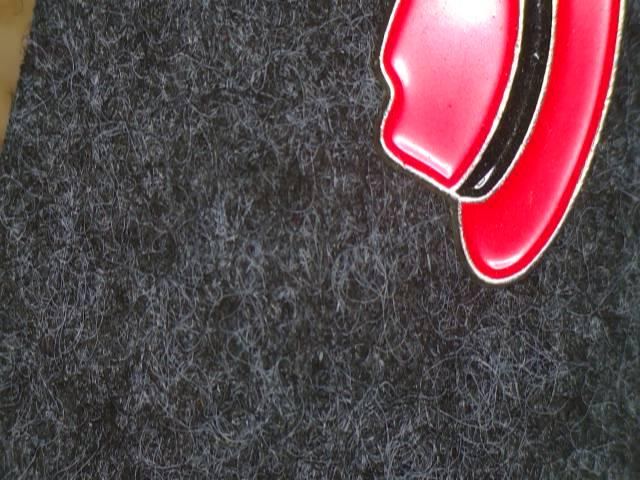Red-Hat: (371, 0, 640, 321)
